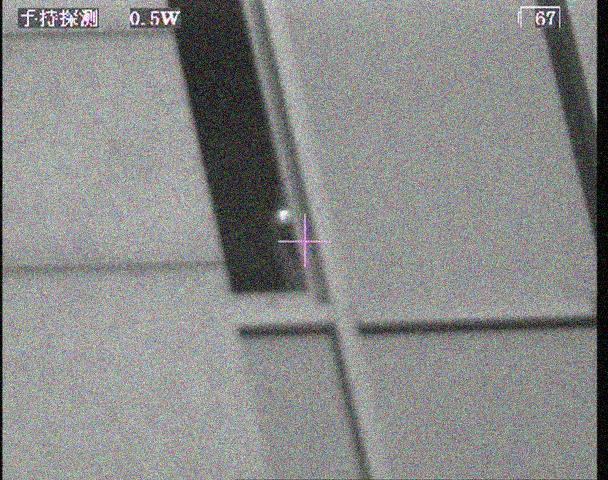my: (278, 207, 293, 222)
